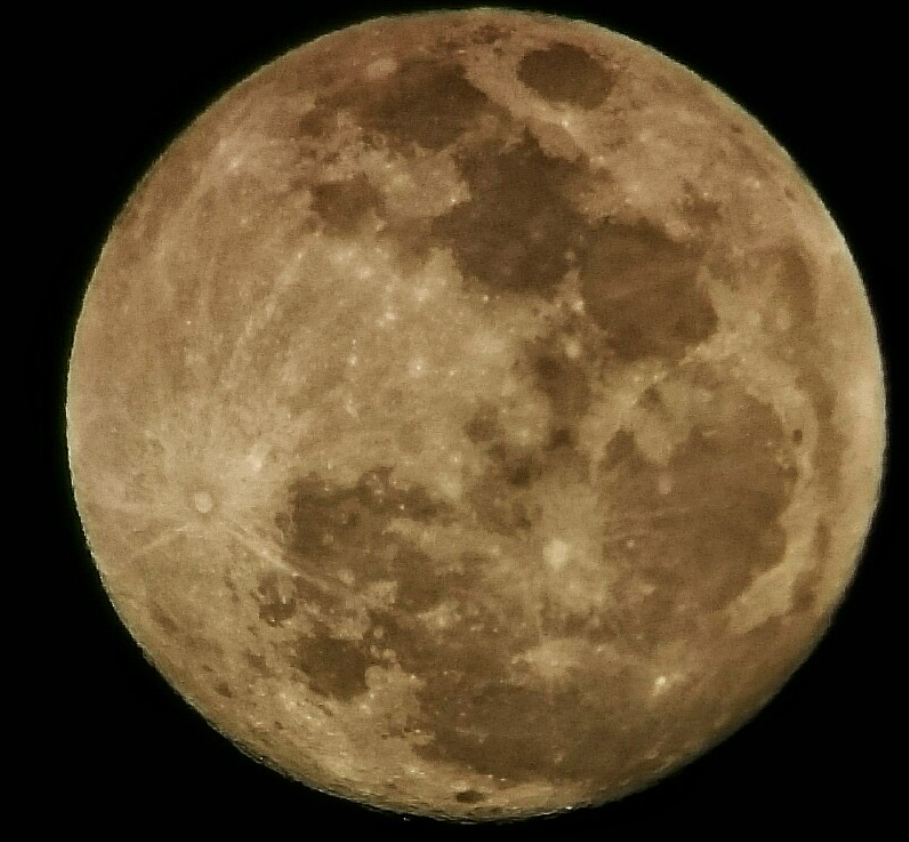crater: (157, 456, 253, 556), (495, 619, 593, 693), (527, 516, 602, 584), (443, 770, 498, 808), (169, 297, 216, 341), (554, 321, 597, 367), (351, 53, 406, 86), (649, 653, 686, 700), (401, 716, 439, 747), (228, 207, 262, 235), (425, 428, 453, 457), (405, 354, 432, 381), (221, 152, 249, 177)
